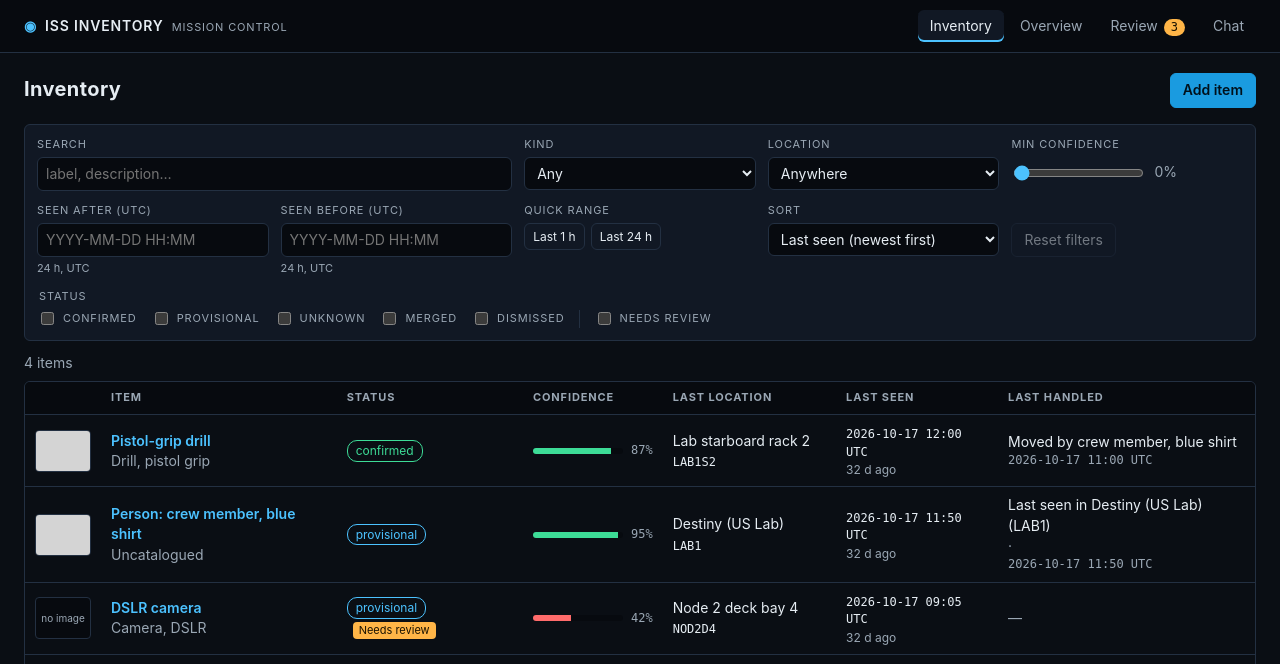
AC-UI-6 add item › AC-UI-6 inventory page links to the add-item form
This screenshot has width=1280, height=664.
Click the link "Add item" at point(1213, 91), box [1170,73,1256,108]
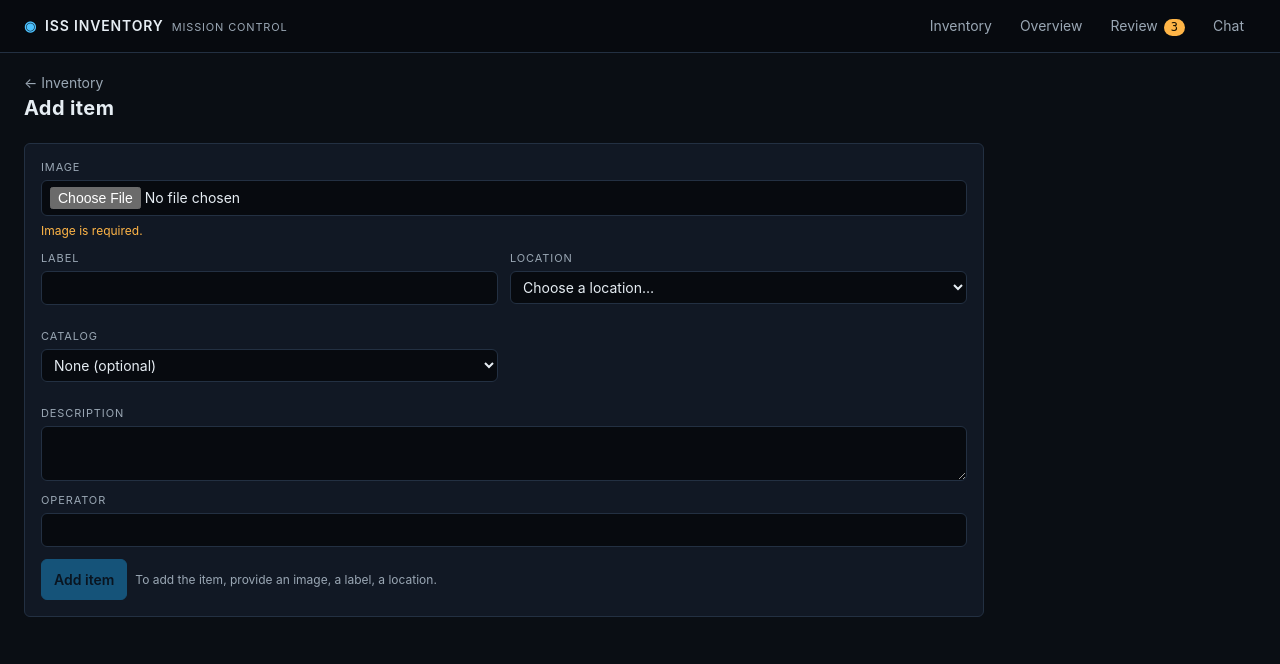
expect the form "Add item" is shown: met, box [24,143,984,617]
